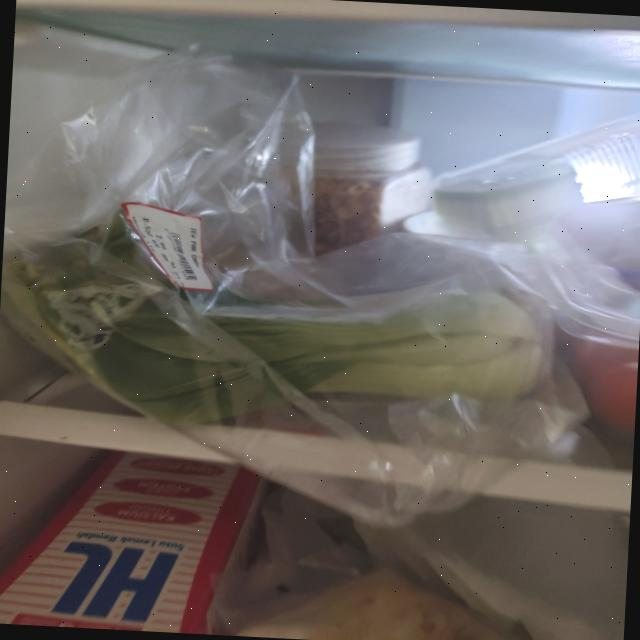pakchoy: (0, 218, 549, 447)
